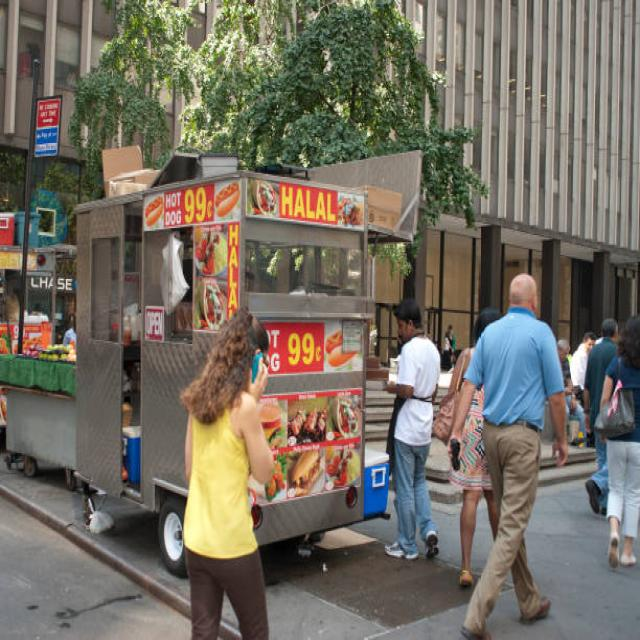Emperan: (54, 133, 448, 586)
